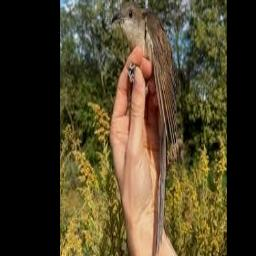Cuckoo: (111, 0, 180, 256)
